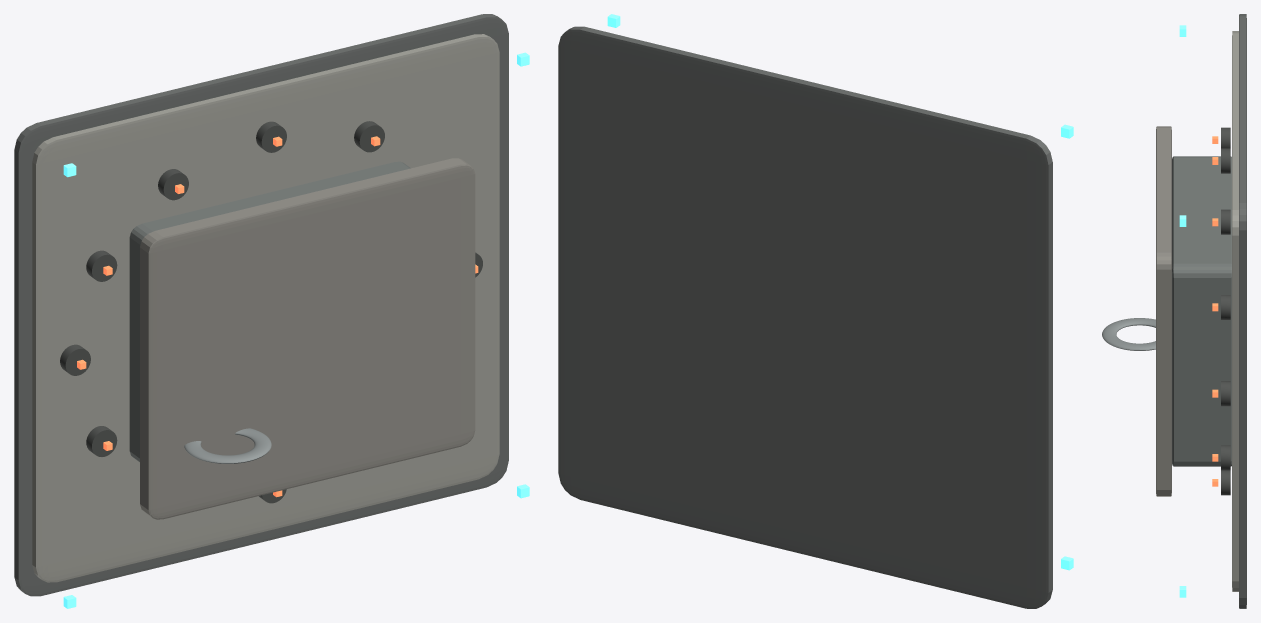
Rendered from b-37-mine-control-lod1.glb.
3 views of the same model, side by side, from view 1: azimuth 30°, elevation 25°; view 2: azimuth 150°, elevation 25°; view 3: azimuth 270°, elevation 25° (orthographic). The views are drawn at different scales.
Parts seen in each view (by area): view 1: foundation_inner_pad, buried_roof, foundation, bunker_main, primary_cable_reel, mine_06, mine_04, mine_07, mine_03, mine_08, mine_05; view 2: foundation; view 3: bunker_main, buried_roof, foundation, foundation_inner_pad, primary_cable_reel, mine_01, mine_03, mine_04, mine_11, mine_12, mine_02, mine_05.
Part boxes in pixels (bbox=[...]): foundation_inner_pad: bbox=[32, 34, 499, 582]; buried_roof: bbox=[140, 158, 475, 519]; foundation: bbox=[14, 14, 508, 596]; bunker_main: bbox=[129, 161, 410, 462]; primary_cable_reel: bbox=[184, 428, 271, 463]; mine_06: bbox=[86, 250, 117, 281]; mine_04: bbox=[256, 121, 286, 152]; mine_07: bbox=[60, 344, 90, 375]; mine_03: bbox=[354, 121, 384, 152]; mine_08: bbox=[86, 426, 117, 456]; mine_05: bbox=[158, 169, 188, 200]; foundation: bbox=[558, 26, 1052, 608]; bunker_main: bbox=[1172, 156, 1231, 466]; buried_roof: bbox=[1156, 126, 1171, 496]; foundation: bbox=[1239, 14, 1246, 608]; foundation_inner_pad: bbox=[1232, 31, 1238, 591]; primary_cable_reel: bbox=[1102, 318, 1155, 350]; mine_01: bbox=[1221, 381, 1230, 406]; mine_03: bbox=[1221, 209, 1230, 234]; mine_04: bbox=[1221, 148, 1230, 173]; mine_11: bbox=[1221, 470, 1230, 495]; mine_12: bbox=[1221, 445, 1230, 470]; mine_02: bbox=[1221, 295, 1230, 319]; mine_05: bbox=[1221, 127, 1230, 148].
Size of what is drawn, in the model's own units: 12 by 11 by 3.58.
